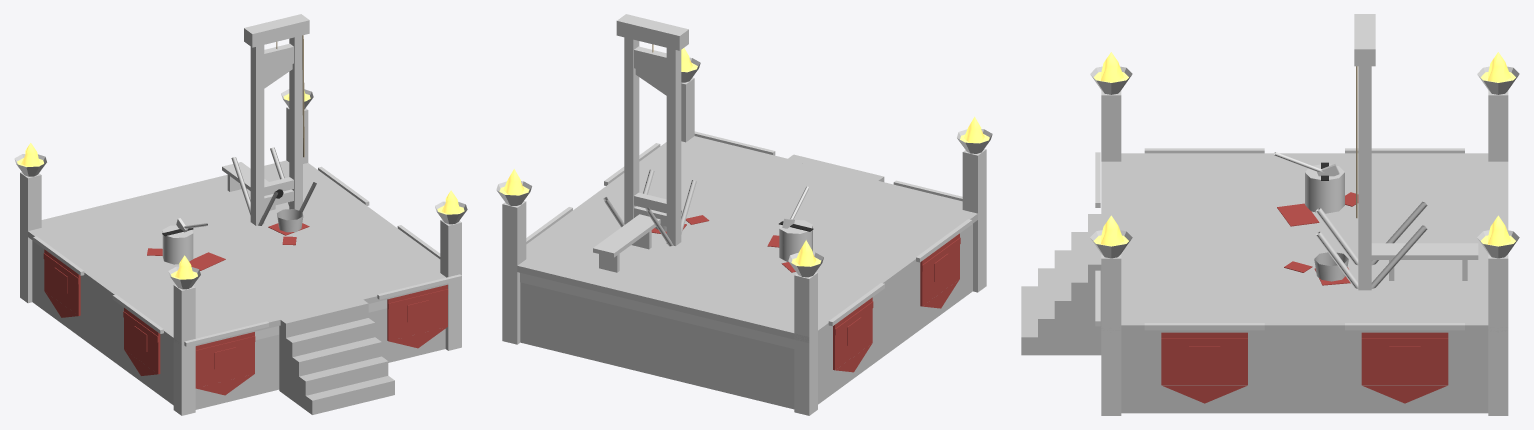
File: scaffold.glb
3 renders of one model, left to right at view 1: azimuth 30°, elevation 25°; view 2: azimuth 150°, elevation 25°; view 3: azimuth 270°, elevation 25°, orthographic. The views are drawn at different scales.
Parts seen in each view (by area): view 1: scaffold; view 2: scaffold; view 3: scaffold.
Boxes of the visible parts, x1=… form: scaffold: x1=14, y1=14, x2=467, y2=415; scaffold: x1=496, y1=14, x2=992, y2=415; scaffold: x1=1021, y1=14, x2=1519, y2=415.
Bounding box in the file's own units: 6.44 × 5.54 × 7.47.
